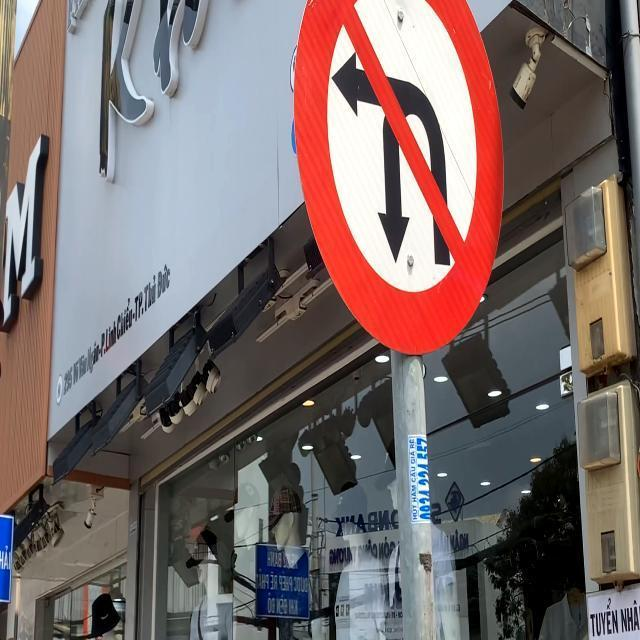124c-cam-re-trai-va-cam-quay-dau-xe: (294, 1, 504, 355)
